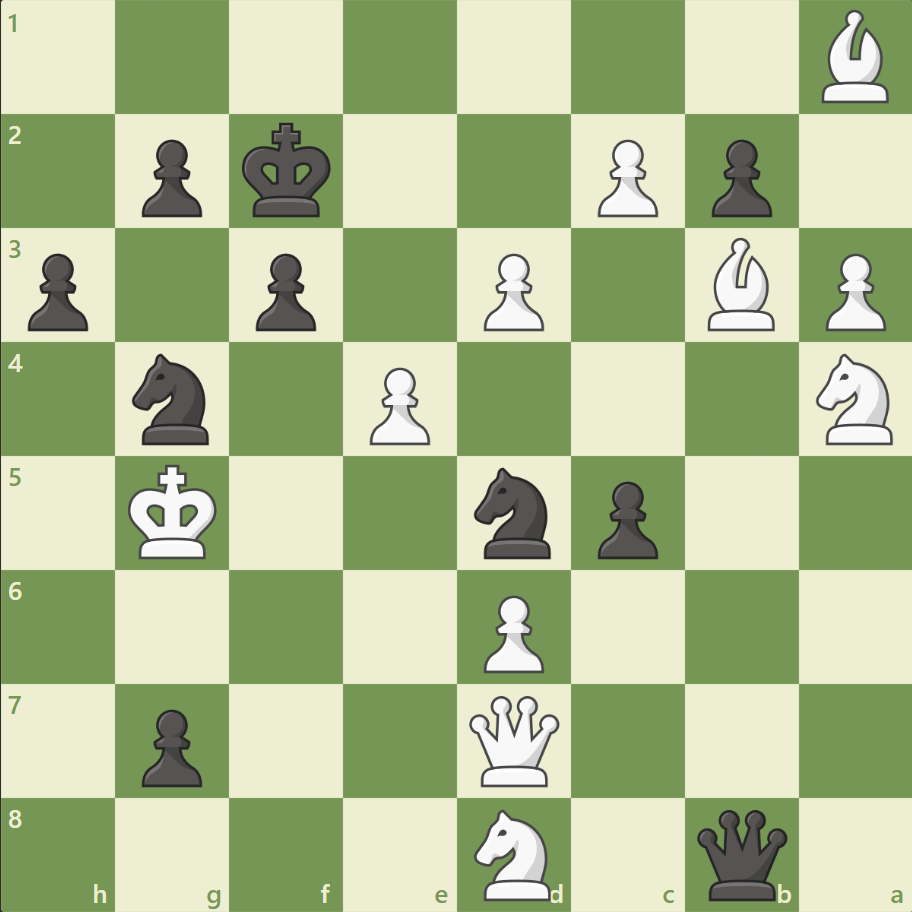B: (698, 233, 782, 336), (812, 6, 896, 109)
K: (124, 458, 224, 566)
N: (465, 802, 562, 904), (806, 348, 903, 450)
P: (474, 586, 549, 677), (474, 246, 549, 337), (361, 359, 435, 450), (815, 246, 889, 337), (588, 132, 662, 223)
Q: (464, 690, 563, 789)
k: (238, 117, 338, 225)
n: (124, 348, 222, 450), (465, 461, 562, 564)
p: (133, 700, 208, 791), (247, 246, 322, 337), (20, 246, 95, 337), (701, 132, 776, 223), (133, 132, 208, 223), (588, 473, 662, 564)
q: (691, 804, 790, 903)
